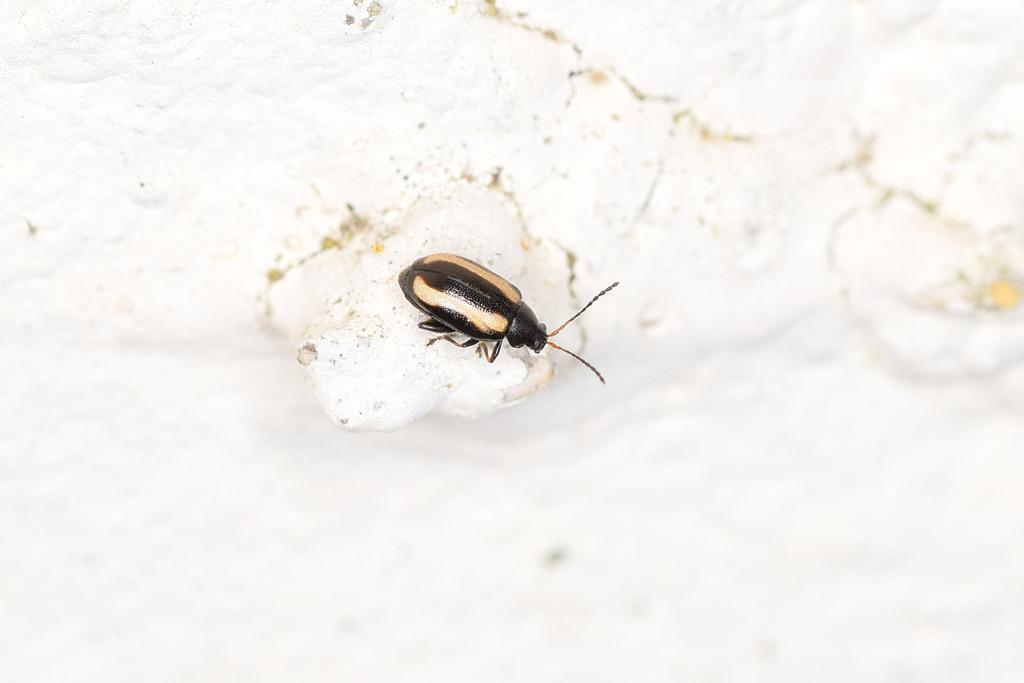flea_beetle: (365, 229, 641, 405)
